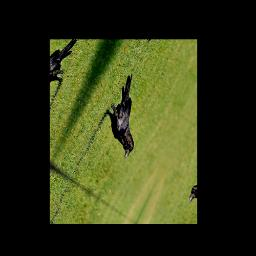Crow: (92, 69, 161, 163)
